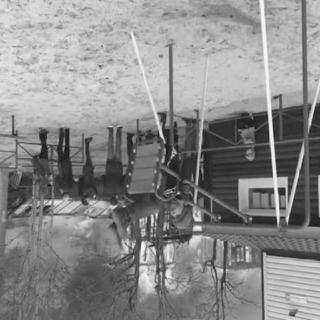Fire: (52, 203, 254, 289)
